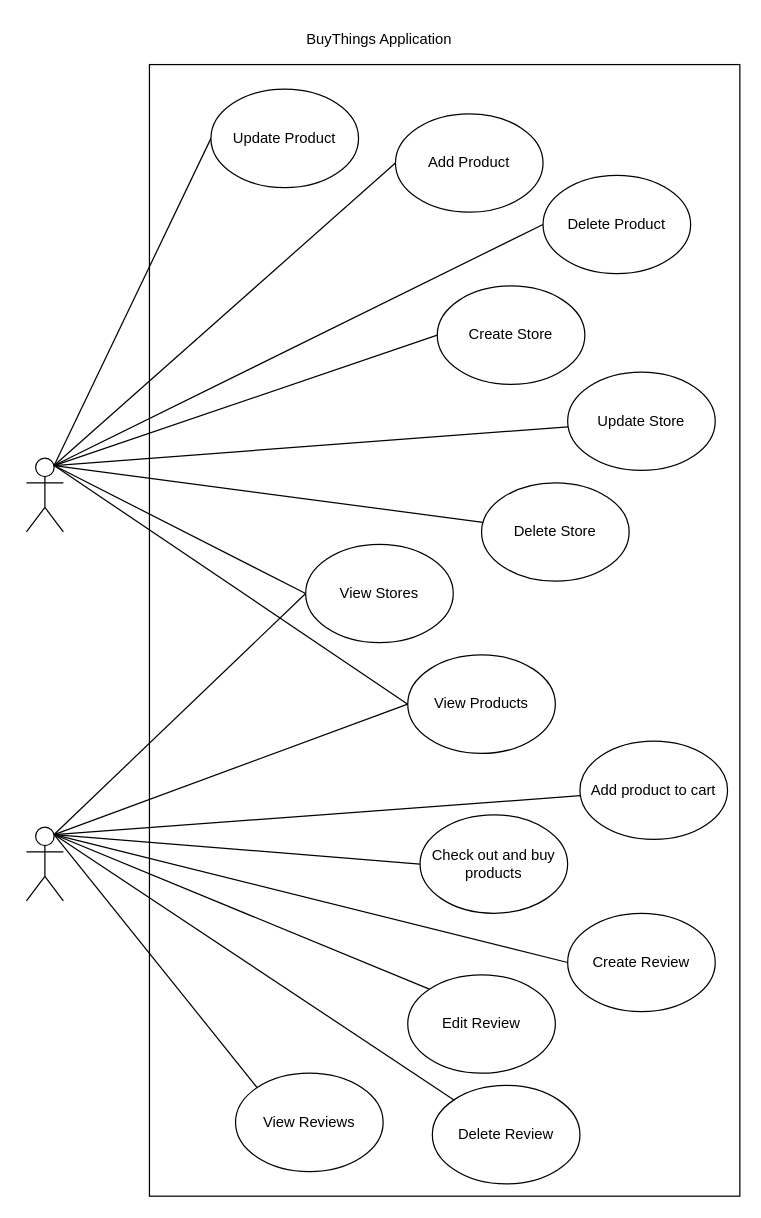
Image size: 761x1218. Some labels were removed from this diagram. The shapes that lost their labels are listed below. From the top down, each one's centre as x and y in pixels, then its label:
At point 44,494: "Vendor".
At point 44,863: "Buyer".
